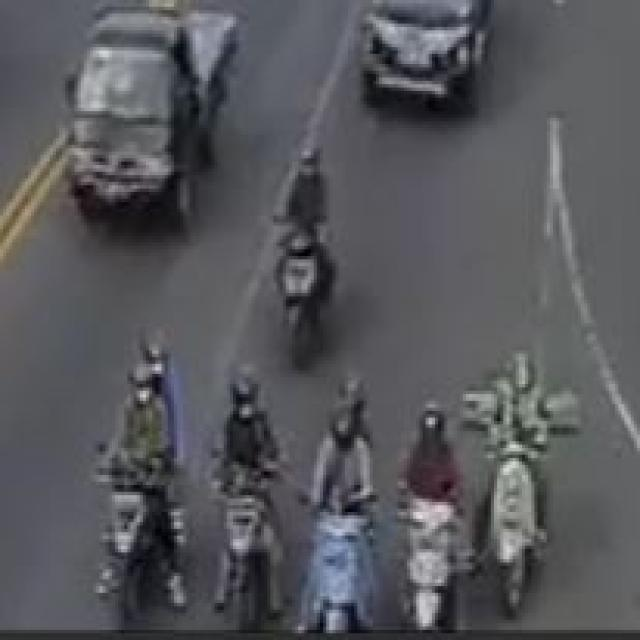car: (60, 5, 244, 226), (364, 0, 514, 128)
motorbike: (81, 344, 194, 623), (255, 104, 368, 338), (390, 367, 471, 640), (306, 357, 376, 640), (492, 366, 568, 622), (214, 355, 264, 640)
